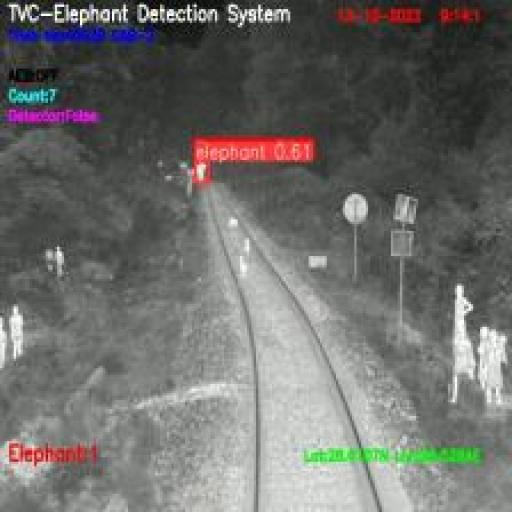Elephant: (194, 160, 207, 182)
